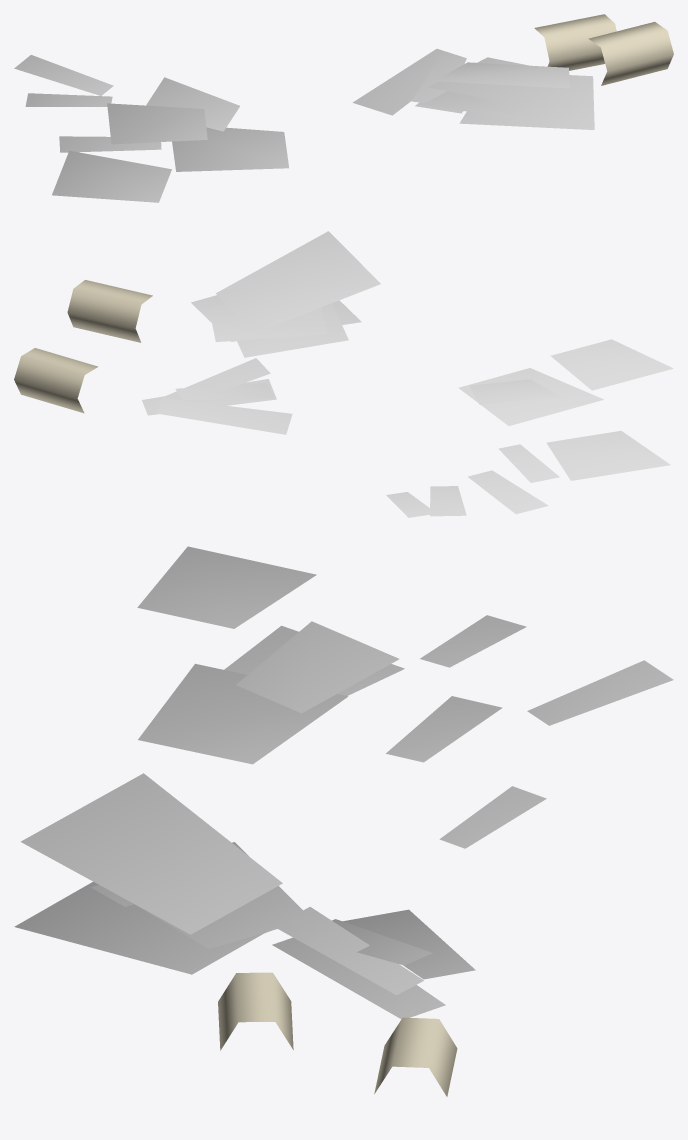
Rendered from fill_basket_herbs_LOD2.glb.
3 views of the same model, one above another, from view 1: azimuth 30°, elevation 25°; view 2: azimuth 150°, elevation 25°; view 3: azimuth 270°, elevation 25° (orthographic). The views are drawn at different scales.
Visible parts, largest first — view 1: HY_fill_basket_herbs_LOD2; view 2: HY_fill_basket_herbs_LOD2; view 3: HY_fill_basket_herbs_LOD2.
Boxes of the visible parts, x1,y1,x2,y2 form: HY_fill_basket_herbs_LOD2: (14,14,673,202); HY_fill_basket_herbs_LOD2: (14,231,673,517); HY_fill_basket_herbs_LOD2: (14,546,673,1096).
Size of the model in its own units: 0.3127 by 0.0531 by 0.198.
